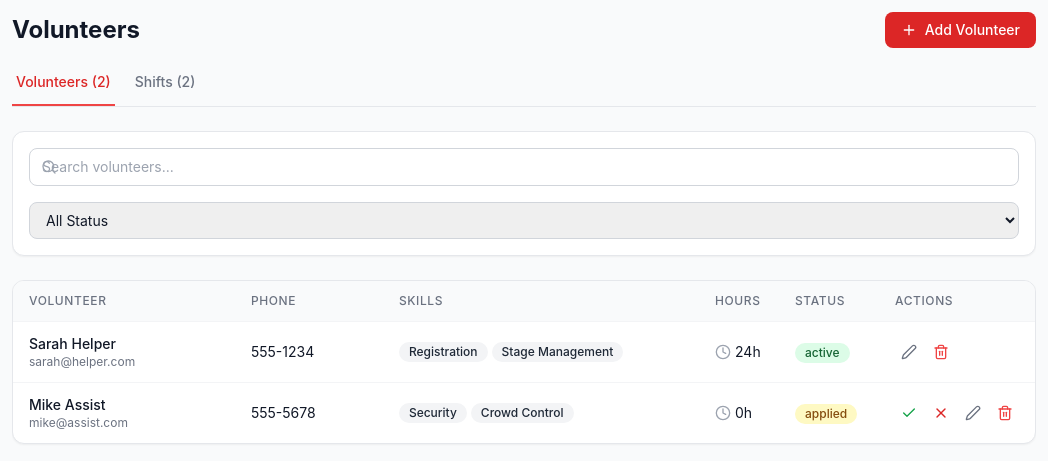
Test: Volunteers › search functionality › filters volunteers by email
Expected: the text "Sarah Helper" is shown, [29,335,116,352]
Type "assist" into the field with placeholder "Search volunteers..." at (524, 167), box [29,148,1019,186]
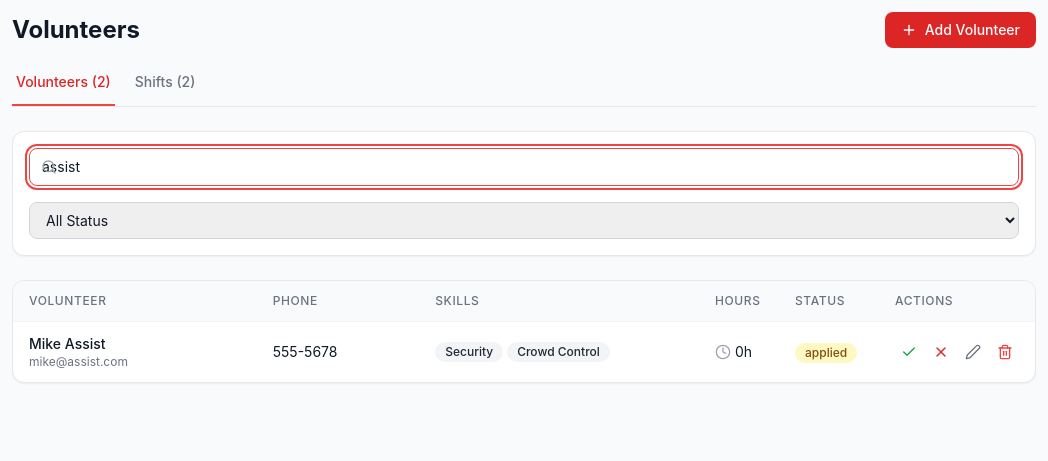
Expected: the text "Mike Assist" is shown, [29,335,106,352]
Now the text "Sarah Helper" is gone
